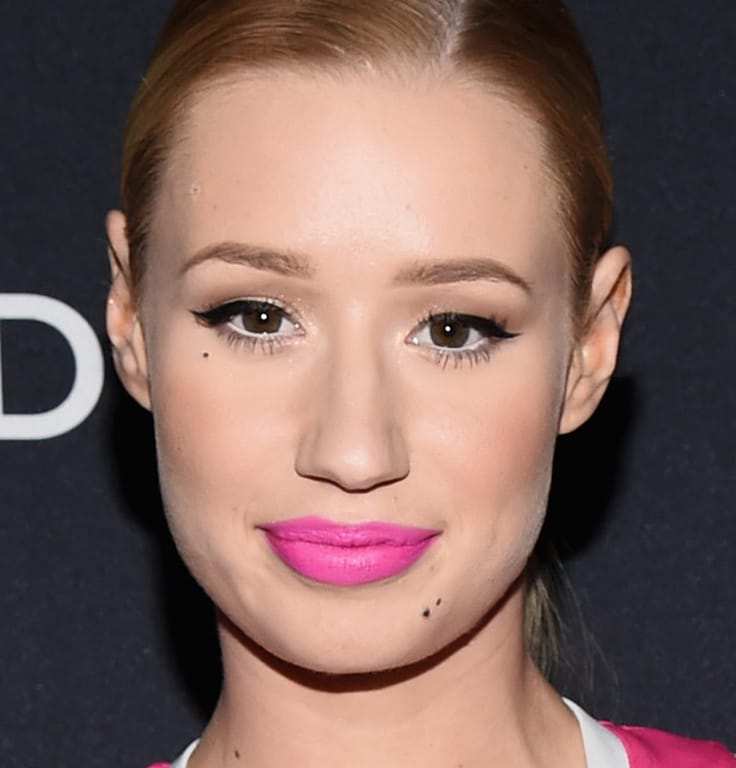tahilalat: (420, 607, 433, 620), (199, 349, 211, 363), (433, 597, 443, 607)
